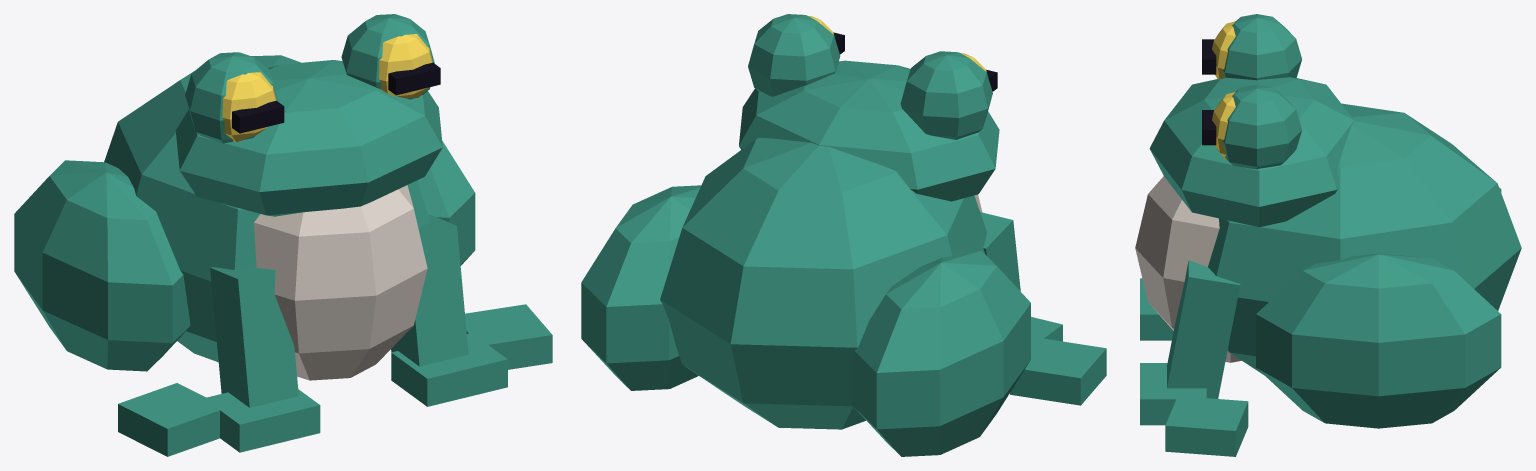
File: frog_green.glb
The picture shows the model from 3 angles, left to right: view 1: azimuth 30°, elevation 25°; view 2: azimuth 150°, elevation 25°; view 3: azimuth 270°, elevation 25°; orthographic projection. The views are drawn at different scales.
Visible parts, largest first — view 1: Frog; view 2: Frog; view 3: Frog.
Part boxes in pixels (x1,y1,x2,y2): Frog: (14, 14, 552, 456); Frog: (581, 14, 1106, 456); Frog: (1135, 14, 1521, 456).
Bounding box in the file's own units: 0.9138 × 0.75 × 0.81.
